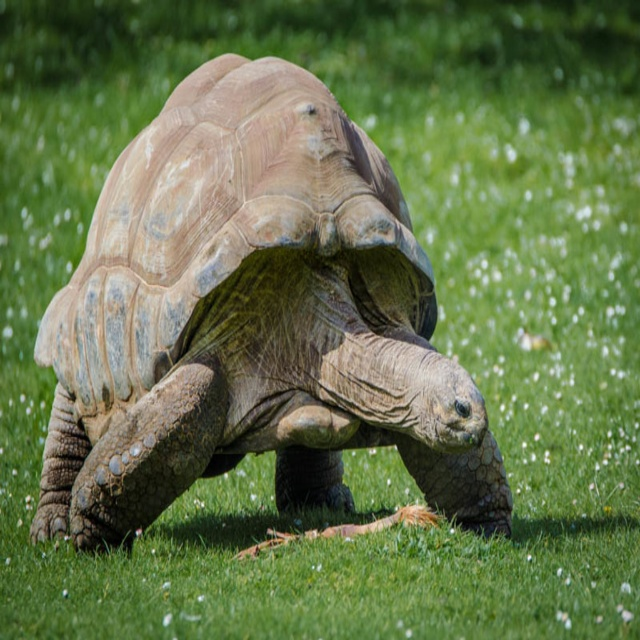Tortoise: (29, 53, 513, 560)
